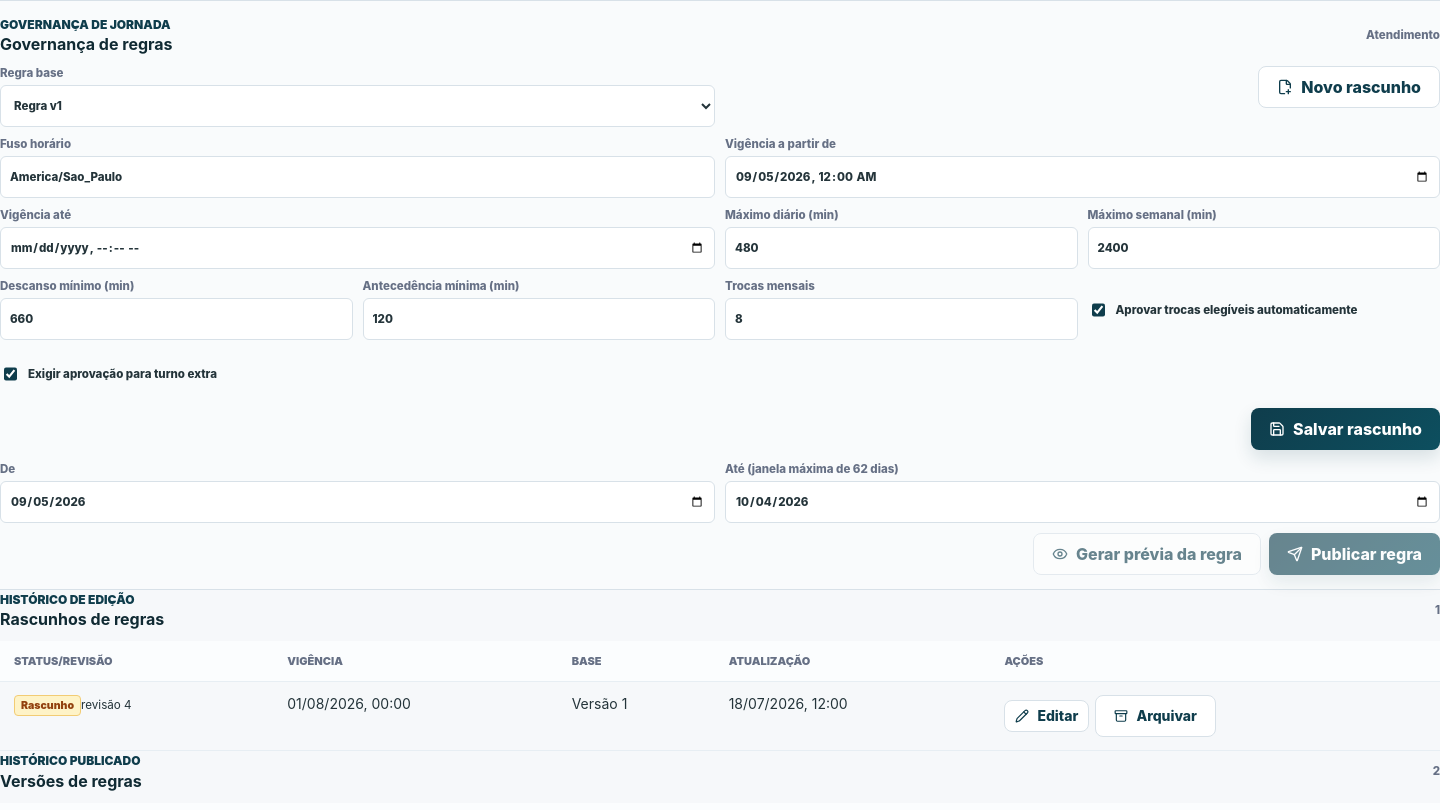
Test: SupportScheduleRuleGovernance › shows a stale warning when a CAS save conflicts
The width and height of the screenshot is (1440, 810).
Click the button "Editar" at (1047, 716), box [1004,700,1089,732]
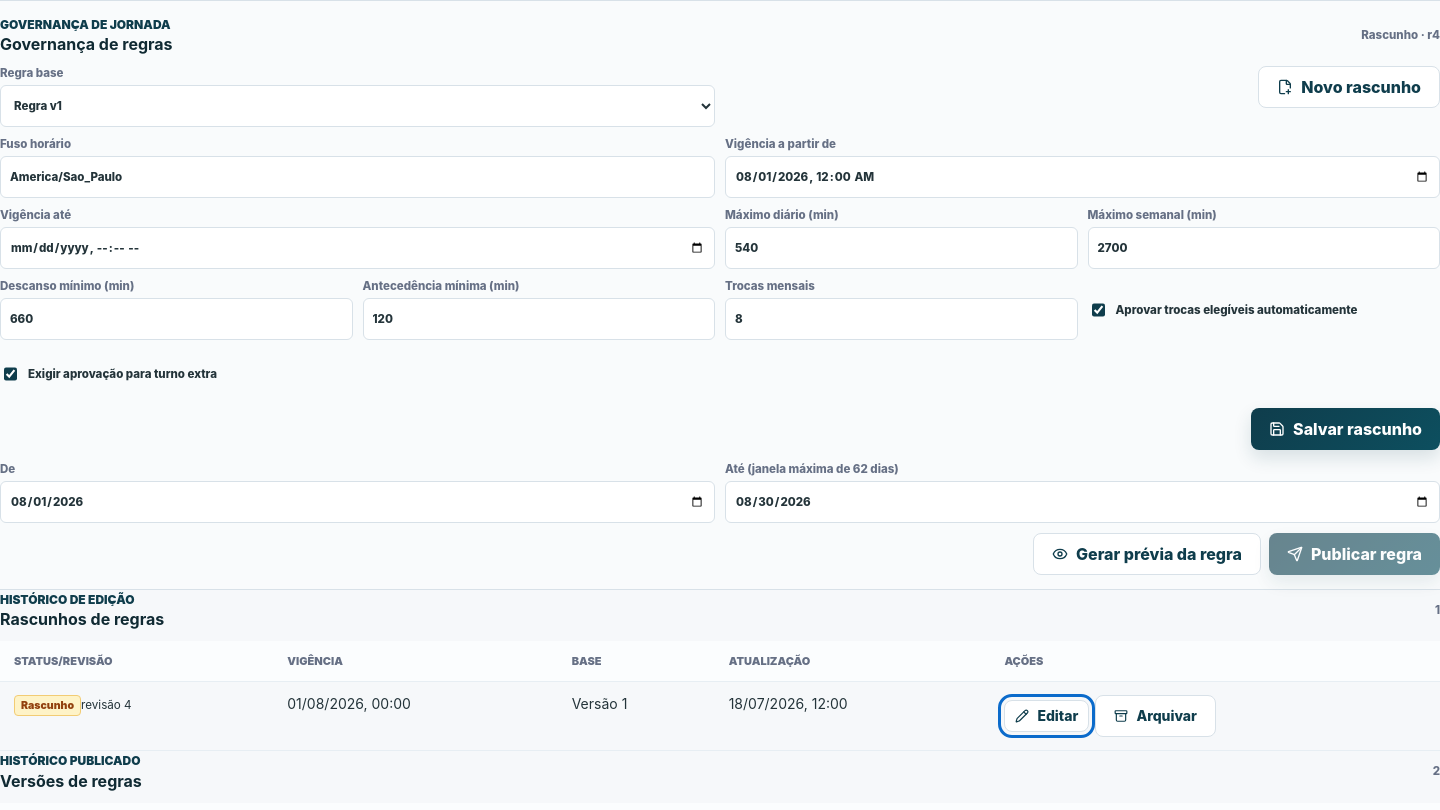
Replace the text in the number field labelled "Máximo diário (min)" with "600" at (901, 248), box [725,227,1078,269]
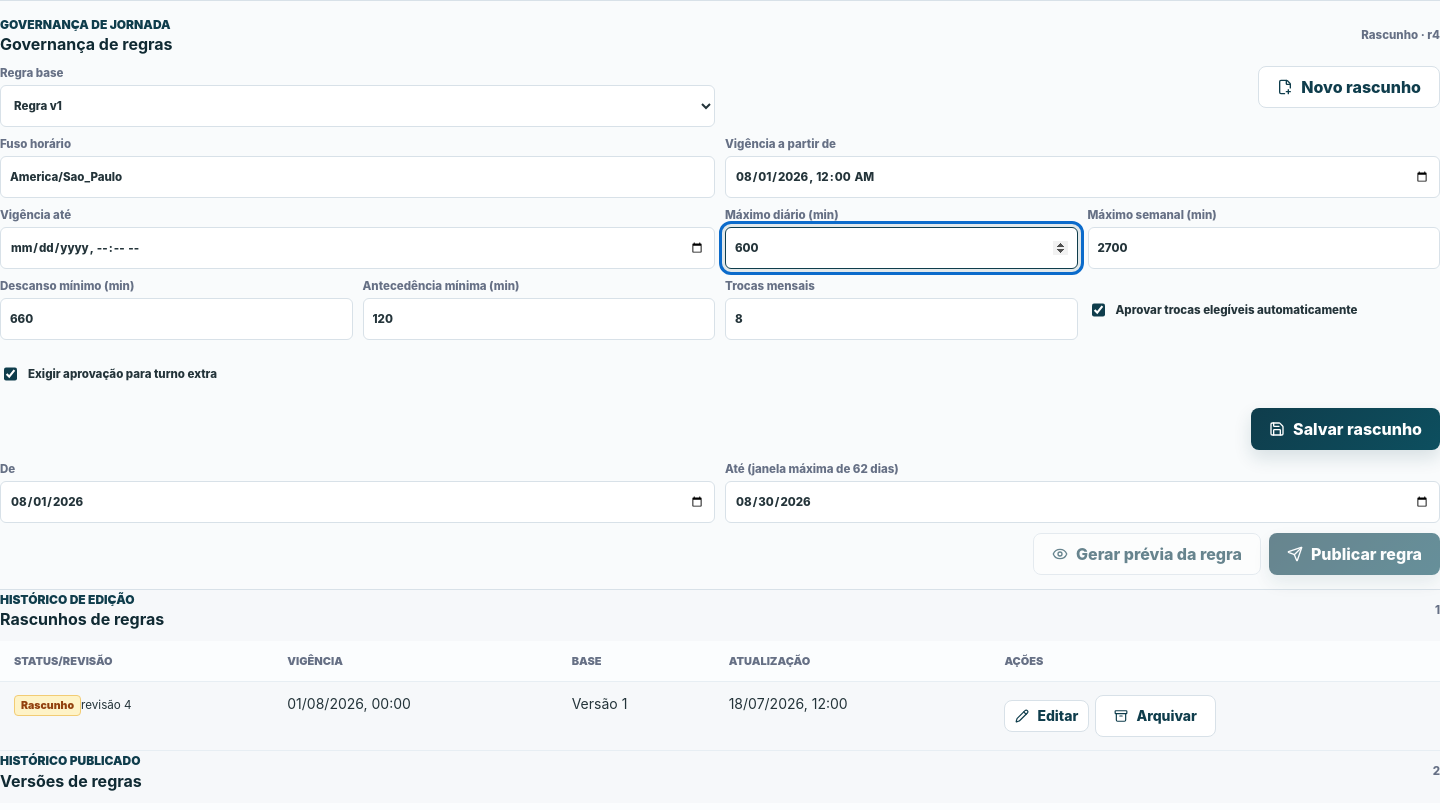
Click the button "Salvar rascunho" at (1346, 429), box [1251,408,1439,450]
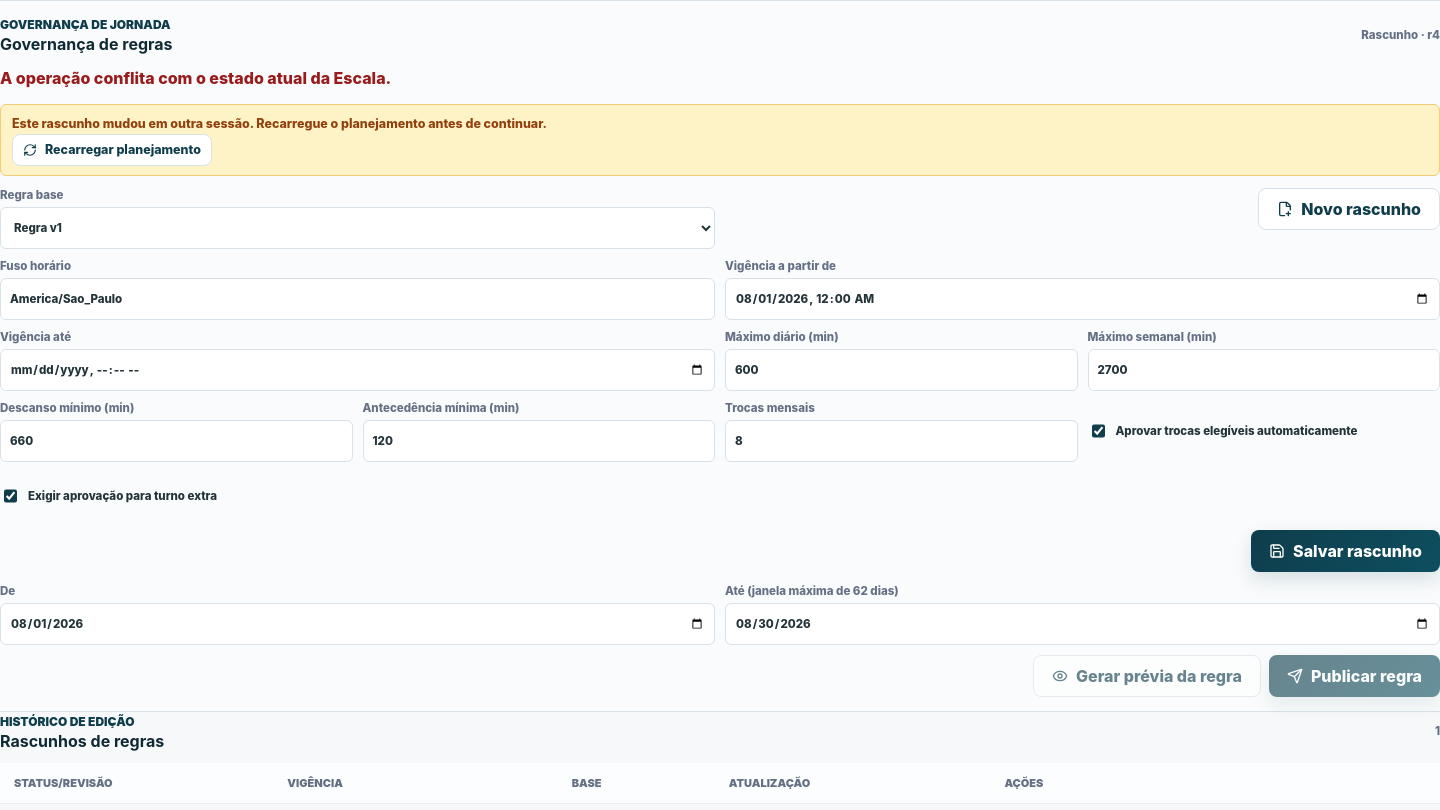
Expected: the text "Este rascunho mudou em outra sessão. Recarregue o planejamento antes de continuar." is shown, [12,116,547,131]
Expected: the button "Recarregar planejamento" is shown, [12,134,212,166]
